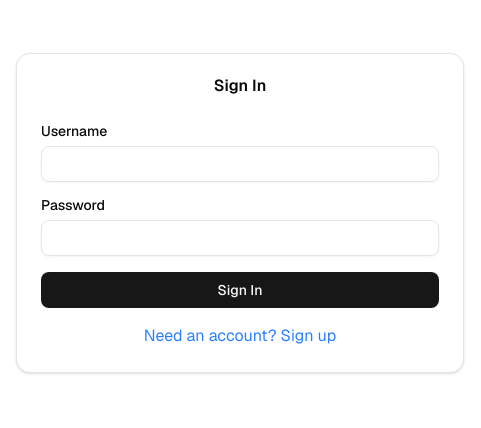
it: AuthForm › switches to register form when clicking sign up link
Click the button "Need an account? Sign up" at (240, 336), box [144,324,336,348]
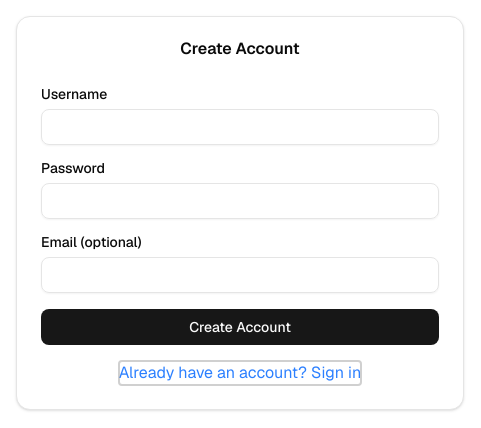
Expected: the text "Create Account" is shown, [180,38,300,59]
Expected: the field labelled "Email (optional)" is shown, [41,257,439,293]
Expected: the button "Create Account" is shown, [41,309,439,345]
